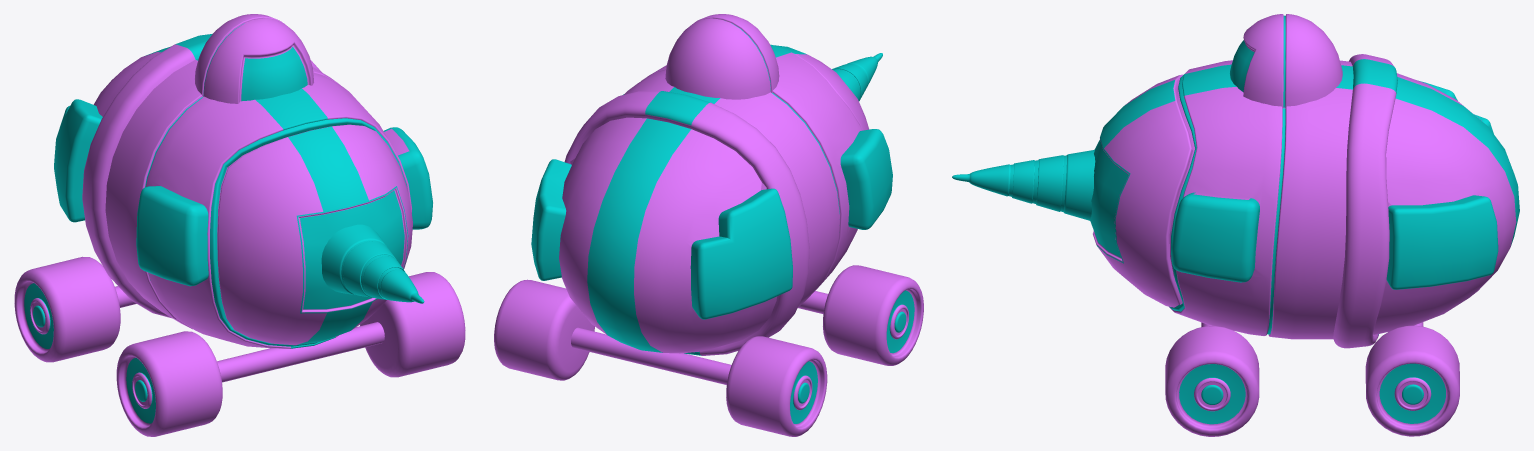
The model's file is Space-Car-2.fbx.
3 views of the same model, side by side, from view 1: azimuth 30°, elevation 25°; view 2: azimuth 150°, elevation 25°; view 3: azimuth 270°, elevation 25° (orthographic). The views are drawn at different scales.
Parts seen in each view (by area): view 1: Space Car-2; view 2: Space Car-2; view 3: Space Car-2.
Boxes of the visible parts, box(x1,y1,x2,y2) form: Space Car-2: box(14, 14, 465, 436); Space Car-2: box(494, 14, 923, 436); Space Car-2: box(952, 14, 1519, 436).
Bounding box in the file's own units: 577 × 627 × 931.
